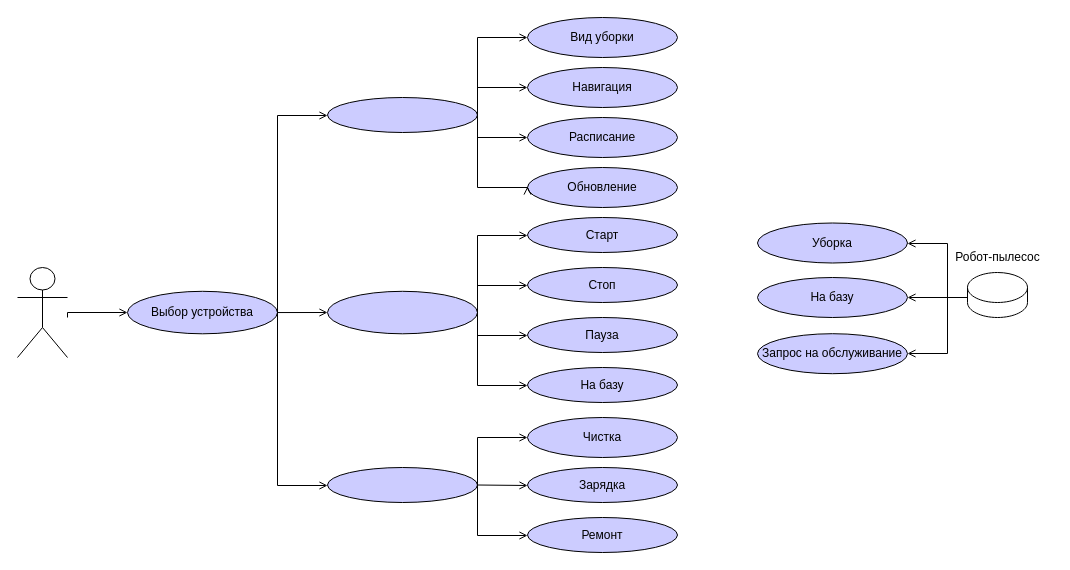
This 1070x570 diagram has some shape labels left out. Here are the shapes that lost their labels. From the top down, the centre of each, then its label:
the point at 402,114: Настройка
the point at 42,312: Actor
the point at 402,312: Управление
the point at 402,484: Обслуживание
